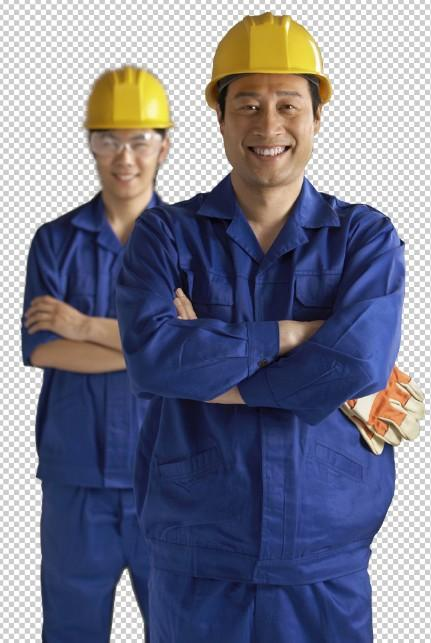helmet: (205, 12, 335, 107), (83, 66, 176, 131)
